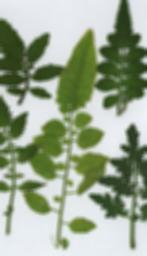Tomato leaf: (53, 28, 100, 112), (69, 120, 109, 156), (64, 212, 103, 242), (70, 165, 106, 197), (72, 149, 107, 176), (23, 188, 55, 217), (29, 148, 55, 182), (33, 130, 65, 153), (39, 116, 70, 139)
